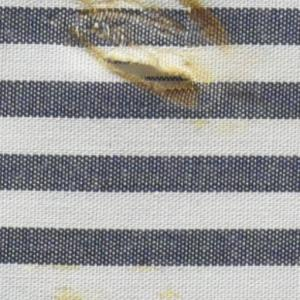Damage: (74, 1, 204, 97)
Oil Stain: (61, 1, 249, 139)
Stain: (46, 252, 187, 300)
